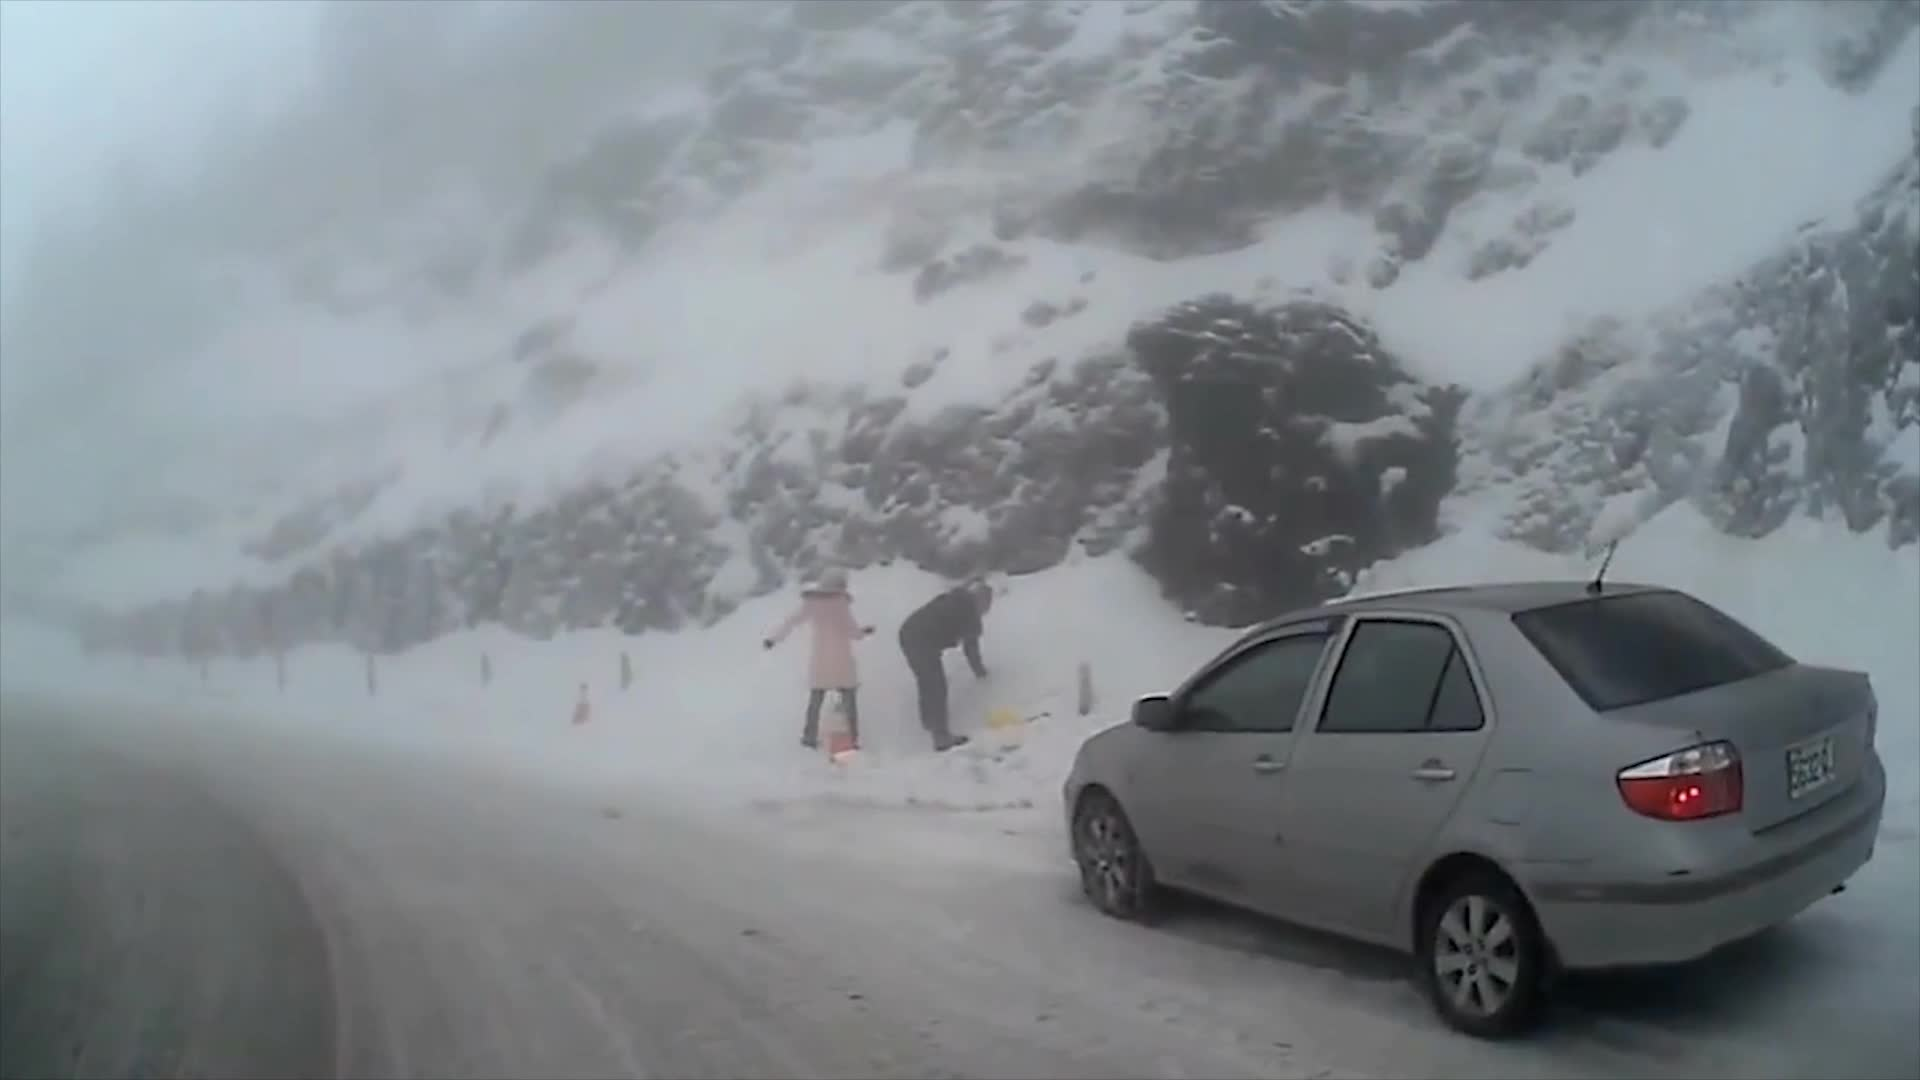pedestrian: (772, 567, 884, 757), (903, 585, 998, 752)
vehicle: (1065, 577, 1883, 1041)
